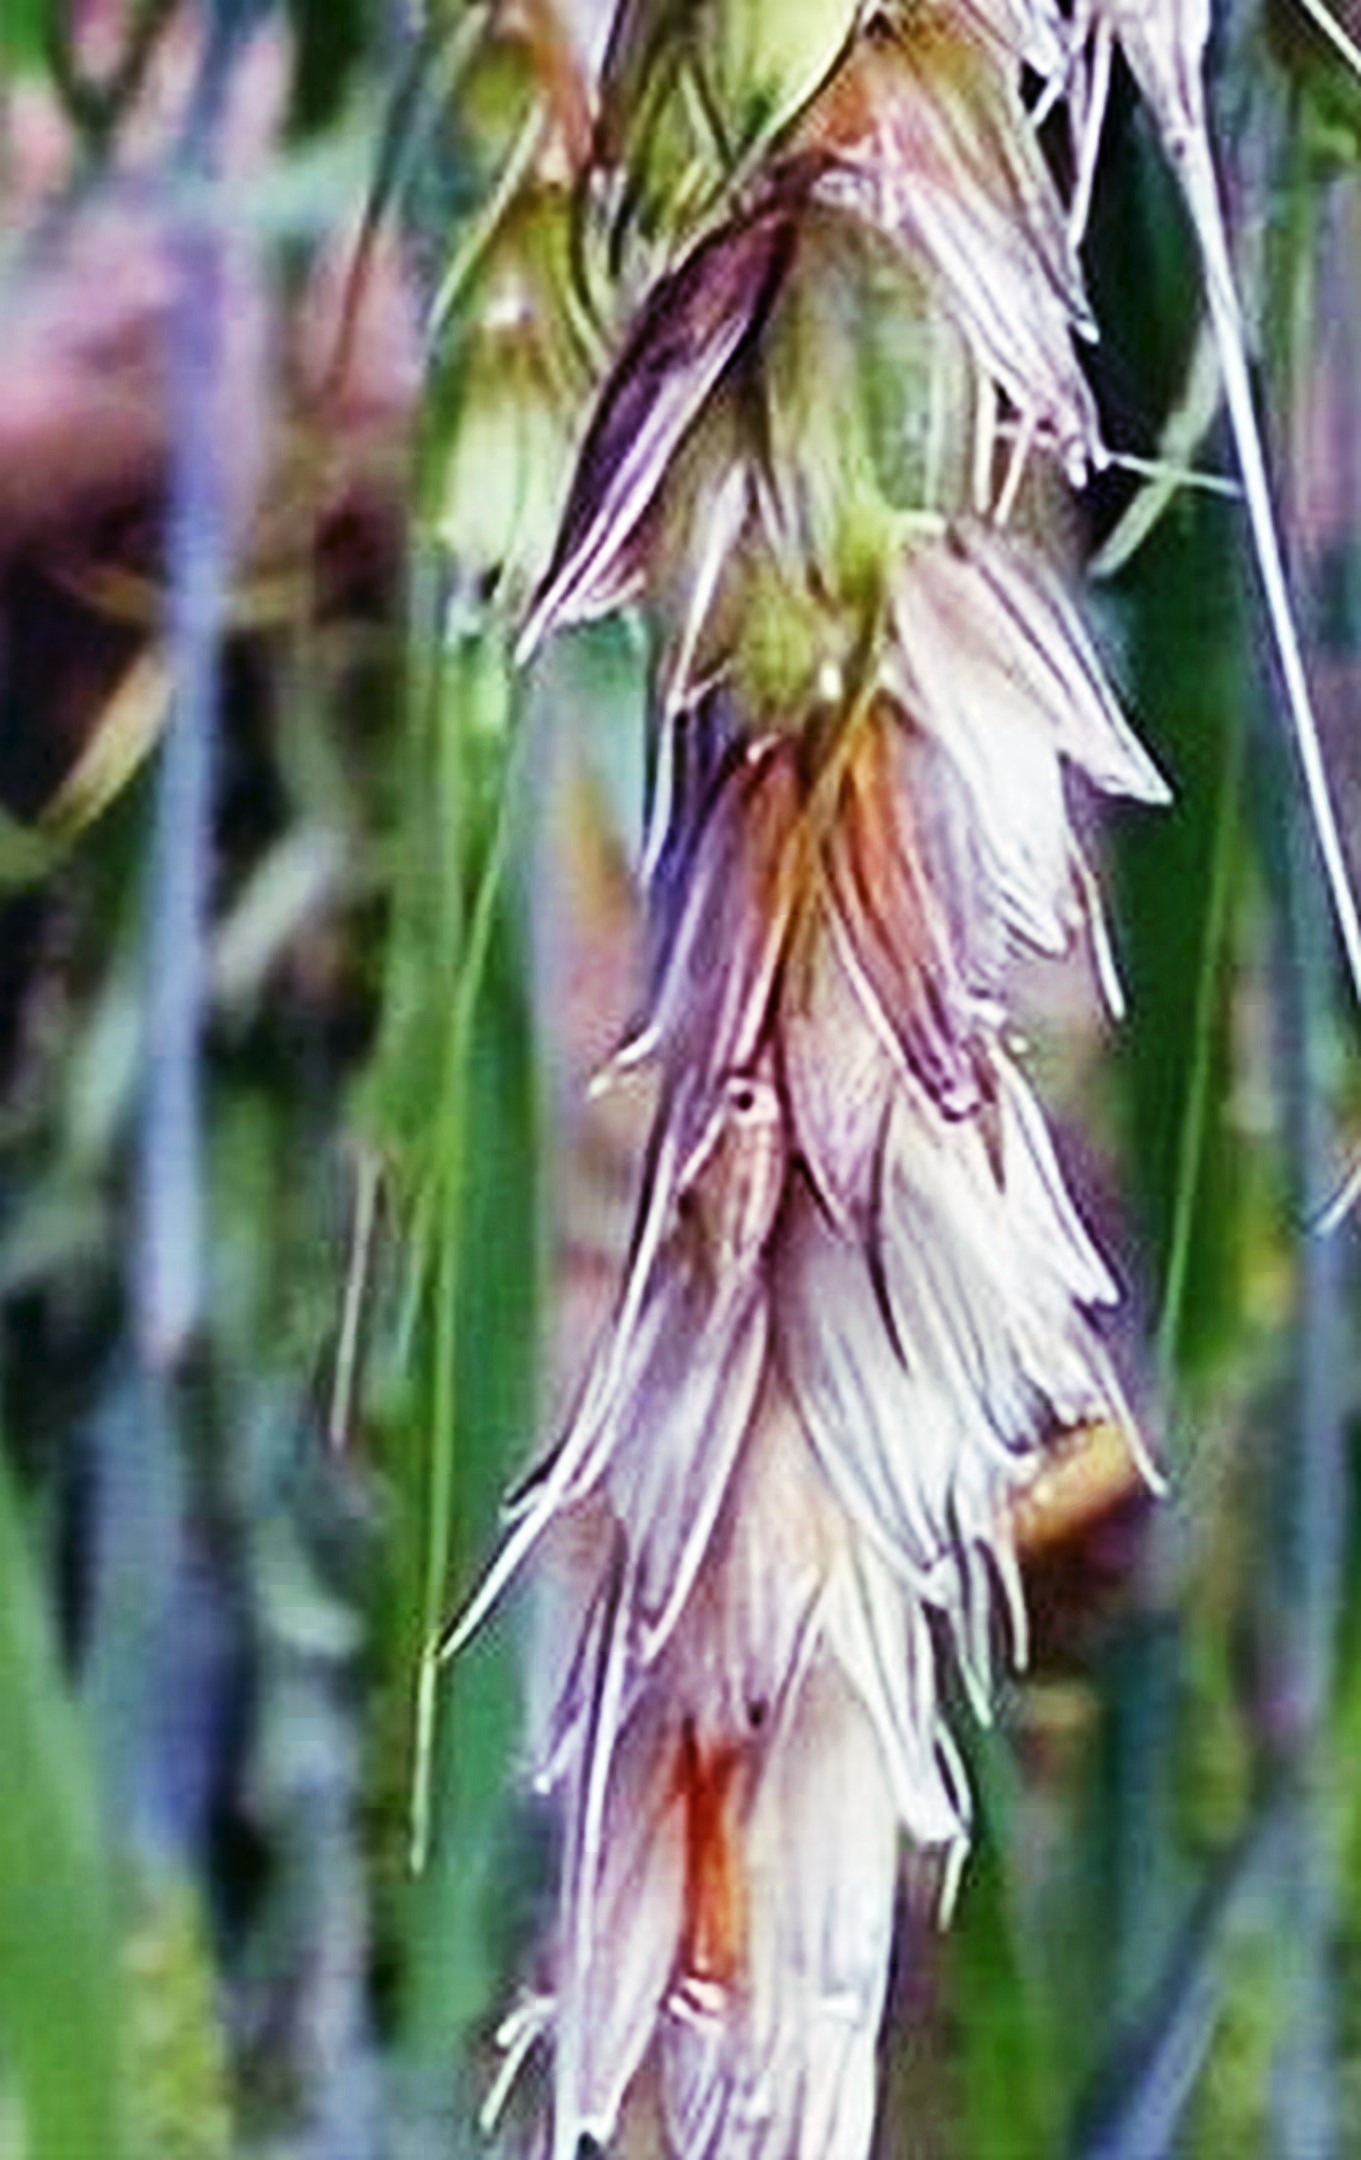Wheat scab: (497, 2, 1160, 2086)
